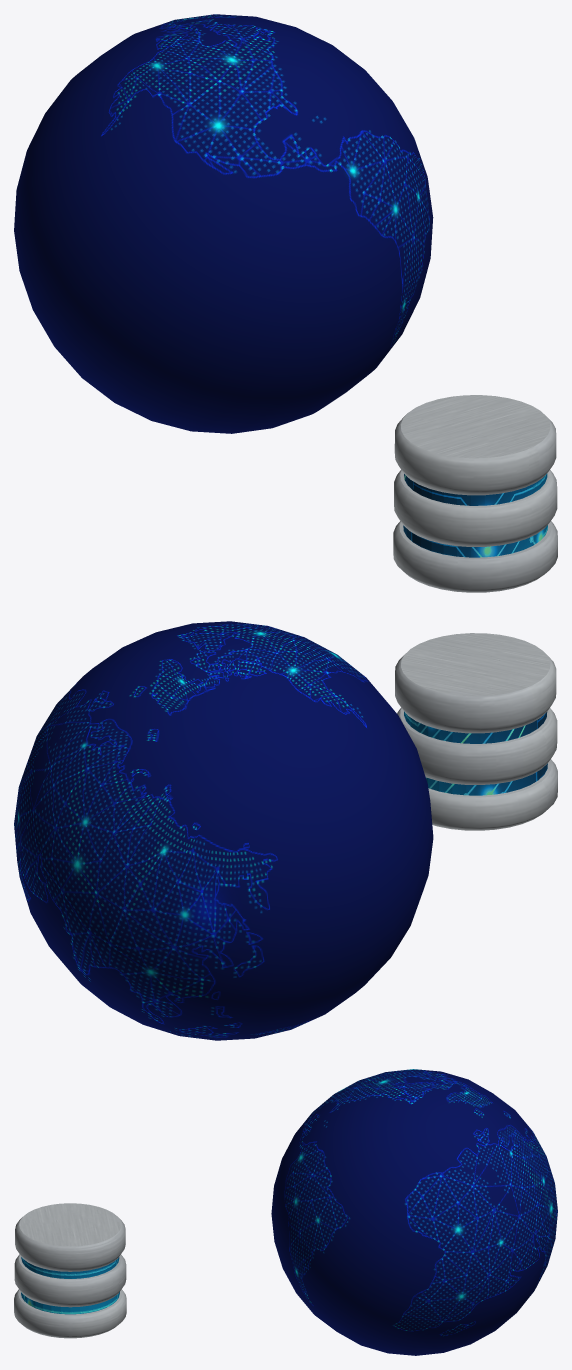
Rendered from escena1.gltf.
3 views of the same model, one above another, from view 1: azimuth 30°, elevation 25°; view 2: azimuth 150°, elevation 25°; view 3: azimuth 270°, elevation 25° (orthographic). The views are drawn at different scales.
Parts seen in each view (by area): view 1: Sphere, Cylinder.001; view 2: Sphere, Cylinder.001; view 3: Sphere, Cylinder.001.
Boxes of the visible parts, x1,y1,x2,y2 form: Sphere: [14, 14, 433, 433]; Cylinder.001: [393, 395, 557, 592]; Sphere: [14, 621, 433, 1040]; Cylinder.001: [395, 633, 557, 830]; Sphere: [271, 1069, 557, 1355]; Cylinder.001: [14, 1203, 126, 1338].
Size of the model in its own units: 5 by 4.98 by 9.48.
3 materials, 3 textured.
